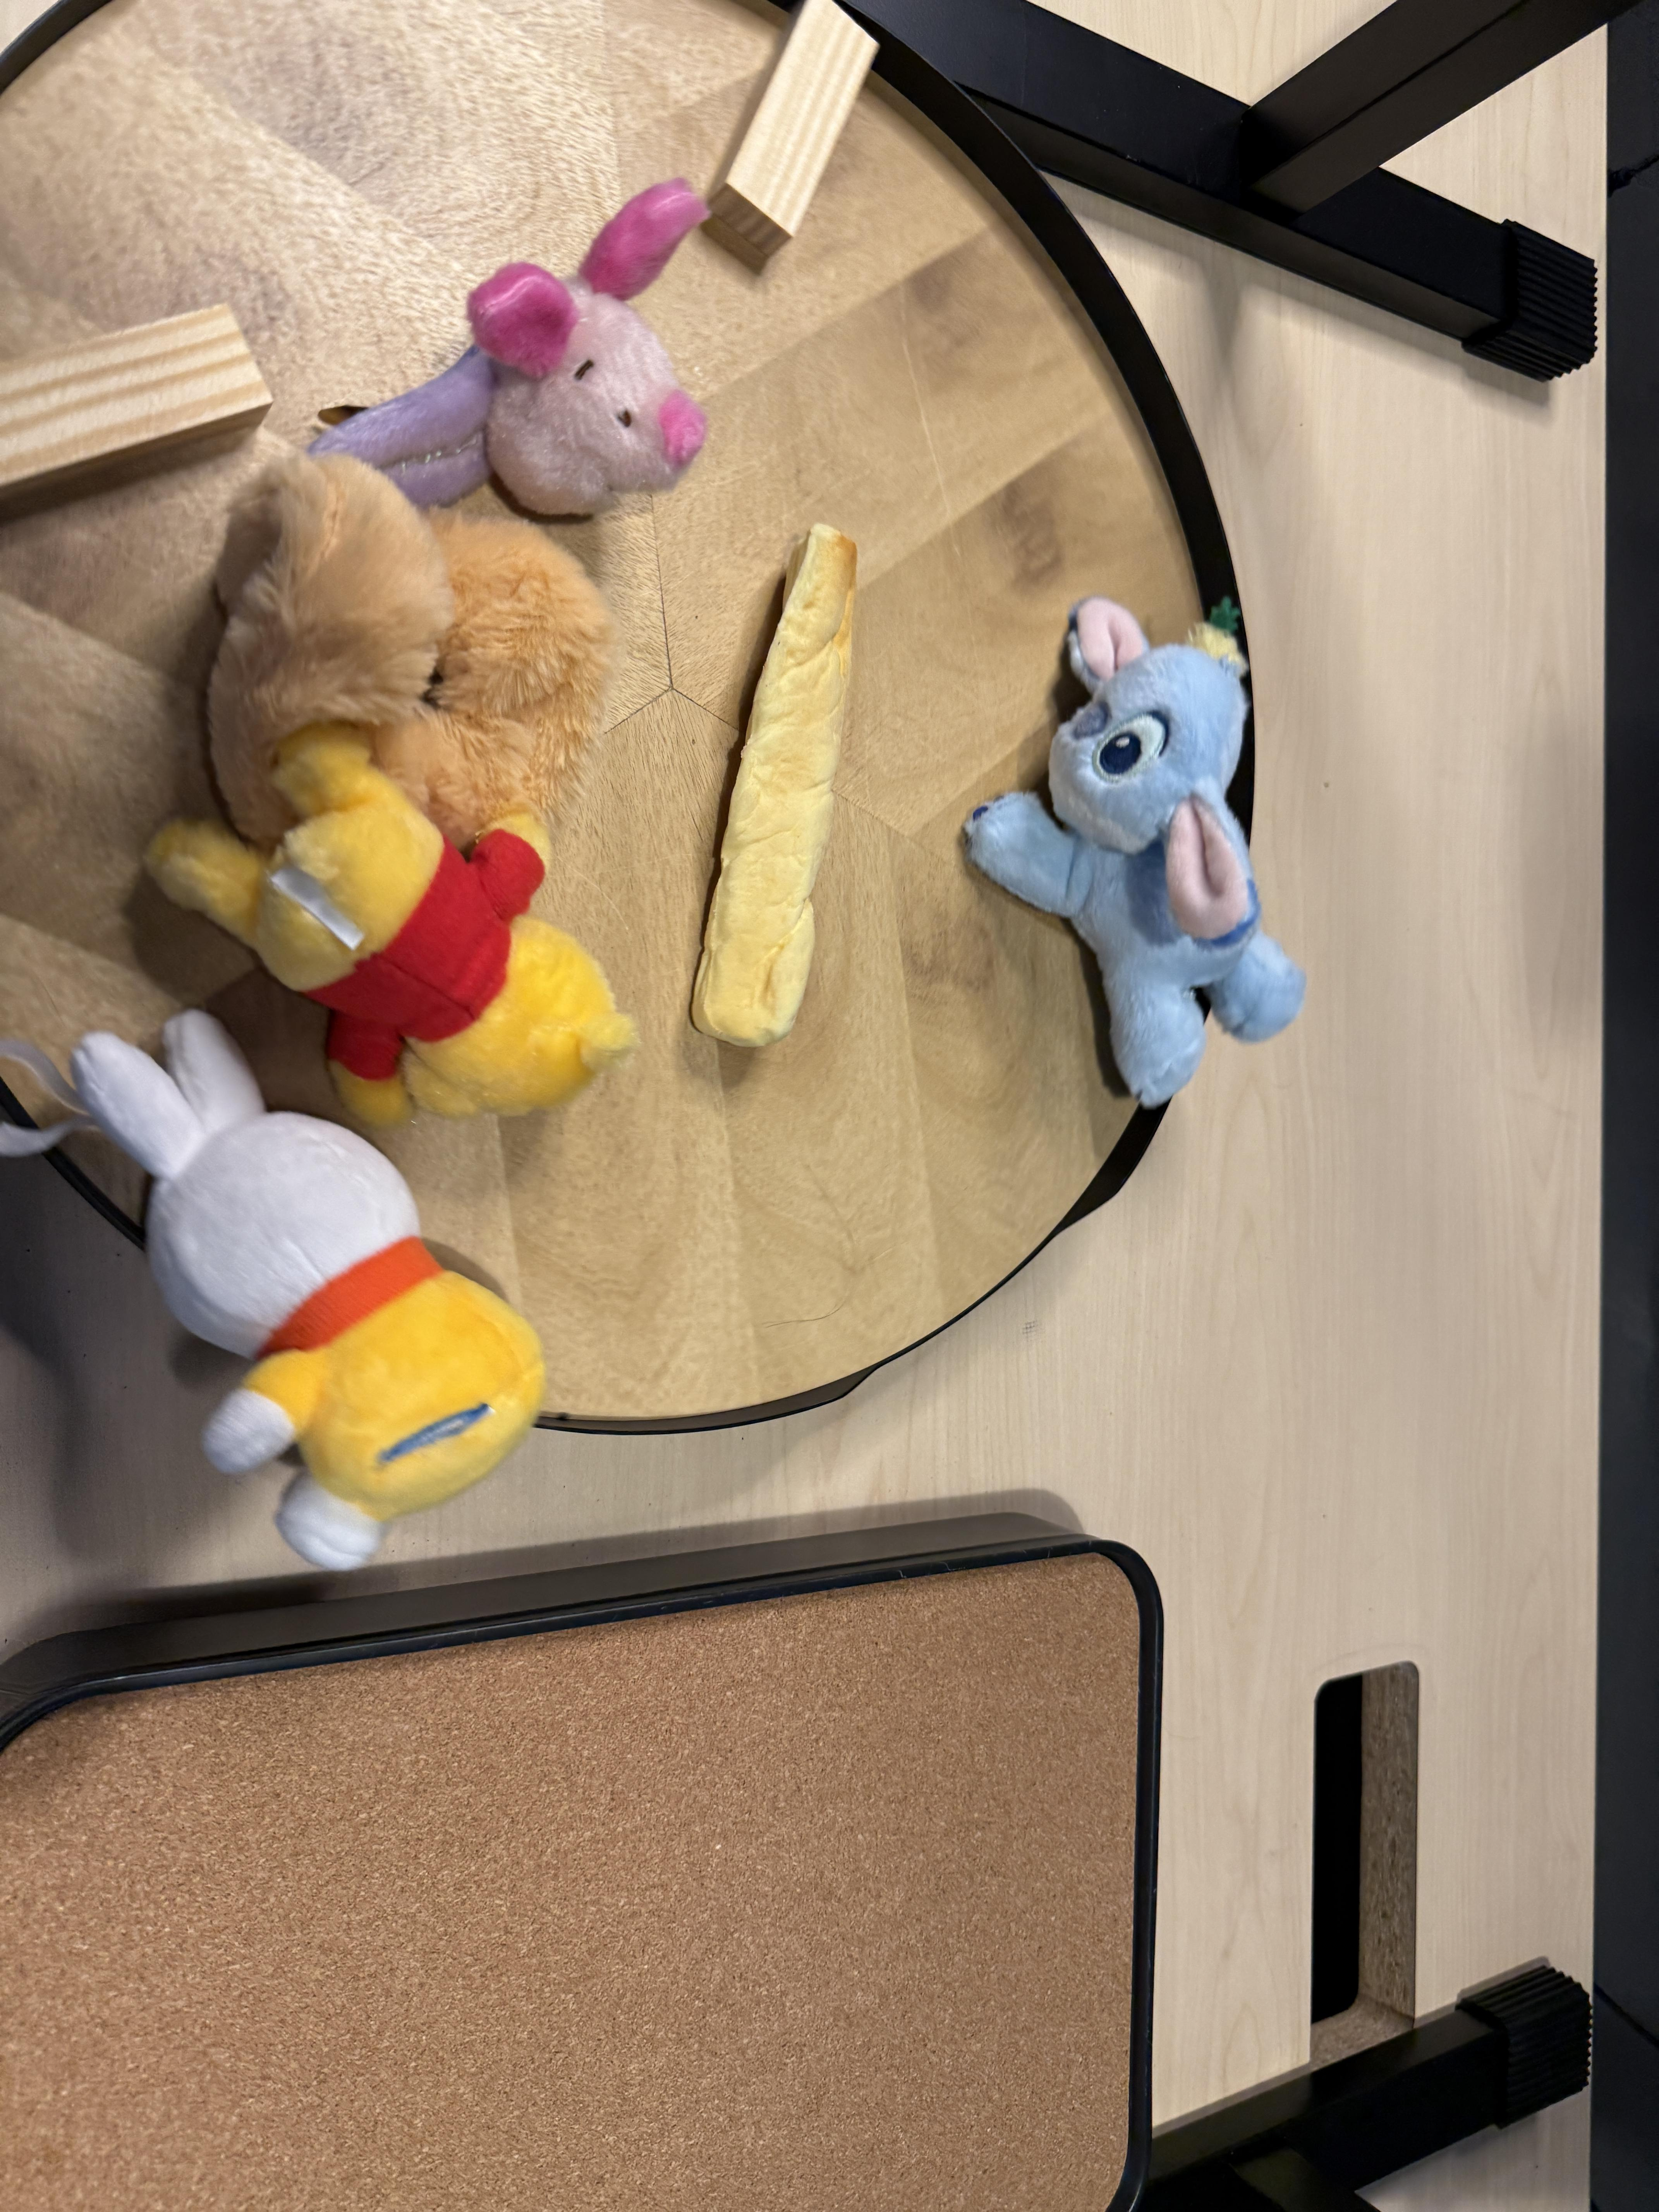block: (3, 301, 275, 514), (725, 0, 884, 253)
bread: (697, 519, 863, 1050)
doll: (167, 449, 645, 1120), (66, 1007, 537, 1568), (953, 592, 1312, 1101), (329, 167, 708, 509)
